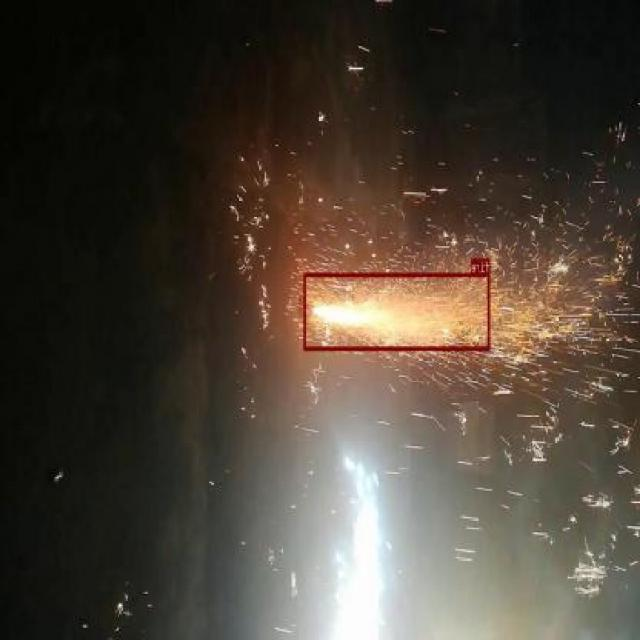Fire: (304, 272, 490, 350)
